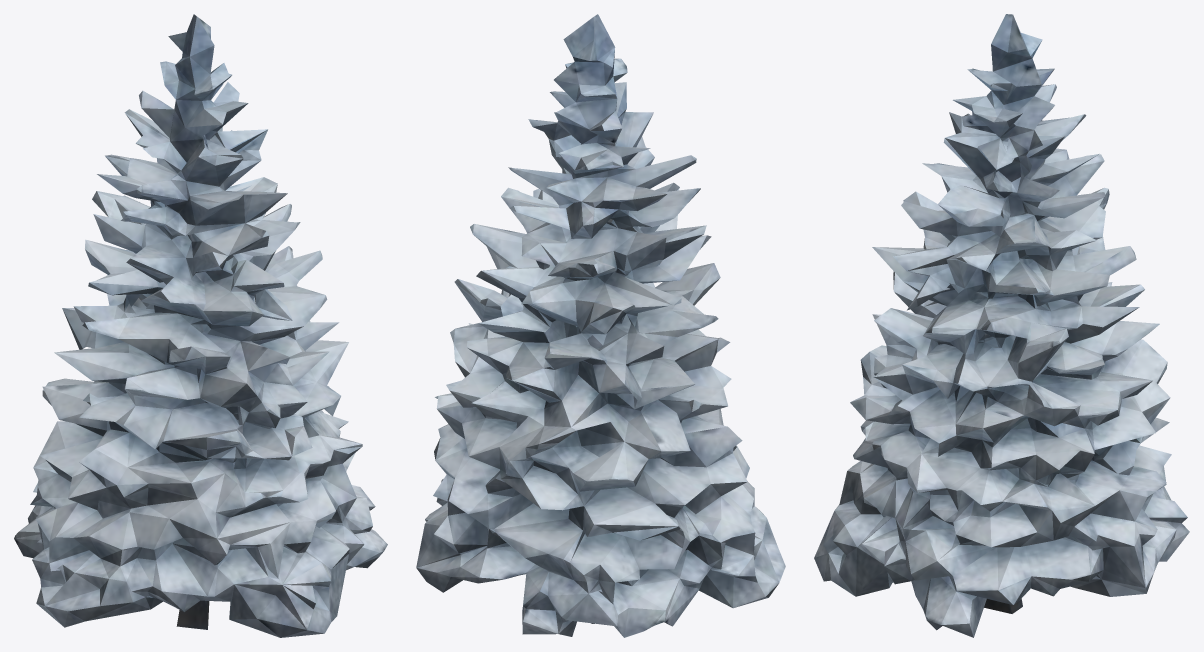
File: arbre3.glb
The picture shows the model from 3 angles, left to right: view 1: azimuth 30°, elevation 25°; view 2: azimuth 150°, elevation 25°; view 3: azimuth 270°, elevation 25°; orthographic projection.
Parts seen in each view (by area): view 1: world; view 2: world; view 3: world.
Part boxes in pixels (bbox=[...]): world: bbox=[14, 14, 387, 637]; world: bbox=[416, 14, 785, 637]; world: bbox=[814, 14, 1189, 637].
Size of the model in its own units: 0.5673 by 0.9996 by 0.5733.
Materials: 1 (1 with a texture image).
